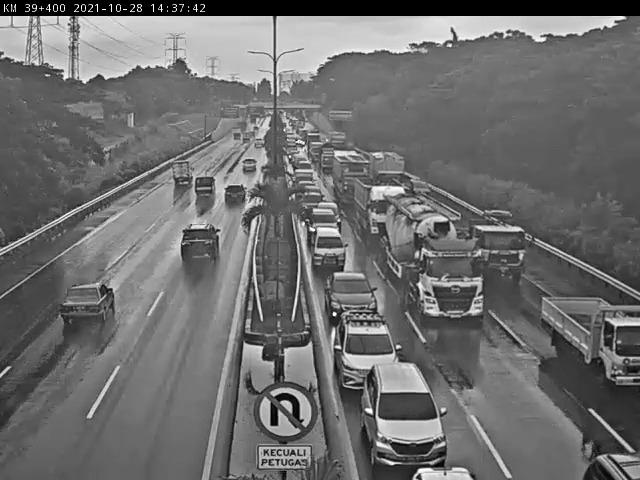big truck: (378, 197, 489, 324), (438, 195, 524, 272), (346, 167, 404, 236), (363, 144, 406, 190), (325, 152, 366, 199)
car: (353, 358, 454, 456), (332, 301, 403, 379), (50, 274, 126, 331), (562, 427, 640, 480), (319, 262, 380, 317), (169, 218, 226, 269), (401, 451, 481, 480), (306, 224, 349, 265), (215, 192, 247, 214), (305, 201, 342, 220), (193, 174, 216, 201), (238, 160, 256, 182), (298, 185, 326, 199)
small truck: (543, 274, 640, 407), (163, 160, 196, 193)
